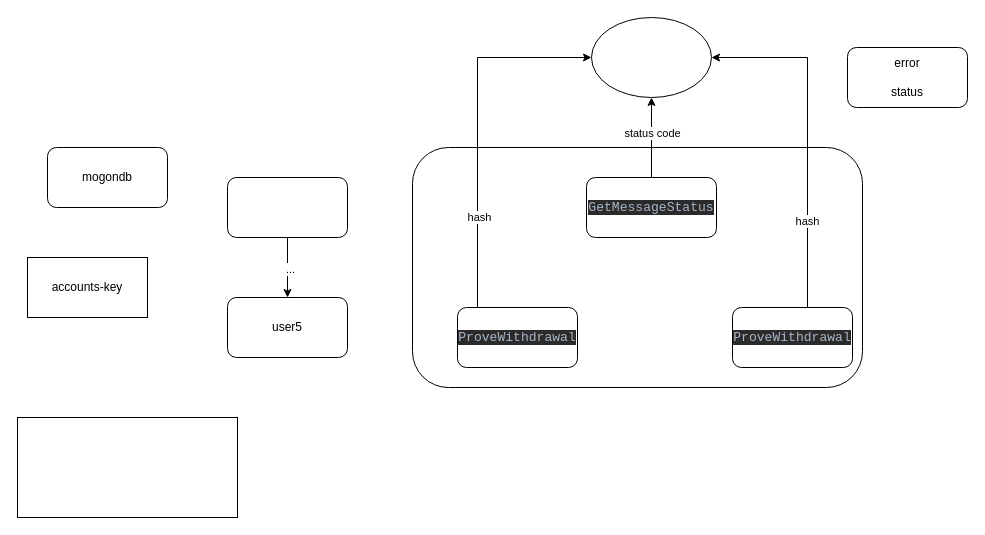
This 985x535 diagram has some shape labels left out. Here are the shapes that lost their labels. From the top down, the centre of each, then its label:
At (x=651, y=57): "opbnb-token-relayer".
At (x=287, y=207): "user1".
At (x=127, y=467): "1. address 2. balance (监控) 3. nonce 4. isAvailable".
